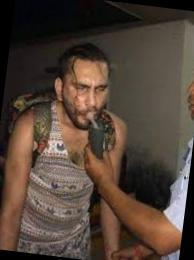Drunk: (69, 59, 106, 127)
